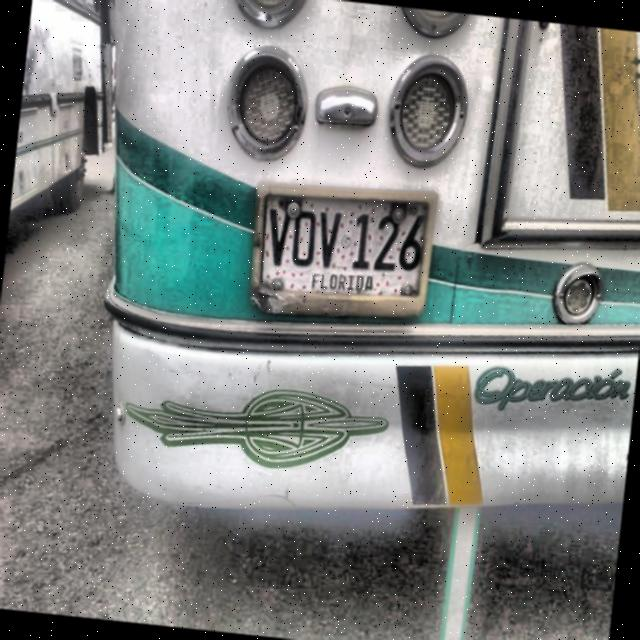plate: (260, 196, 427, 297)
